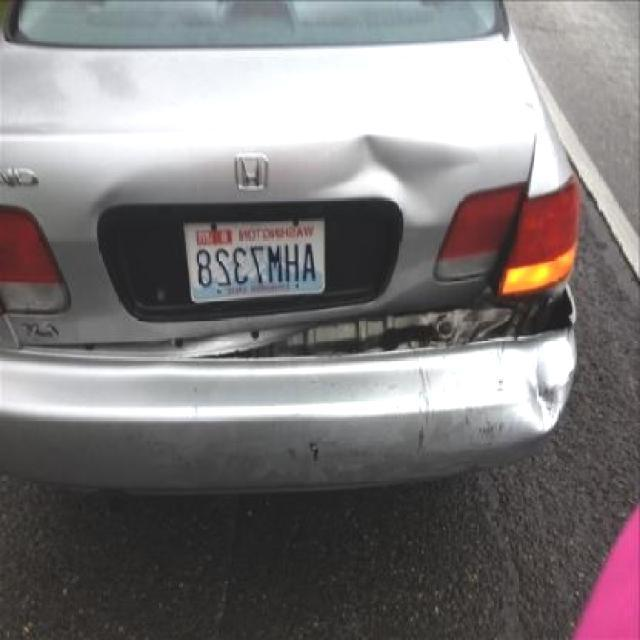minor: (172, 286, 574, 358), (315, 135, 482, 232)
